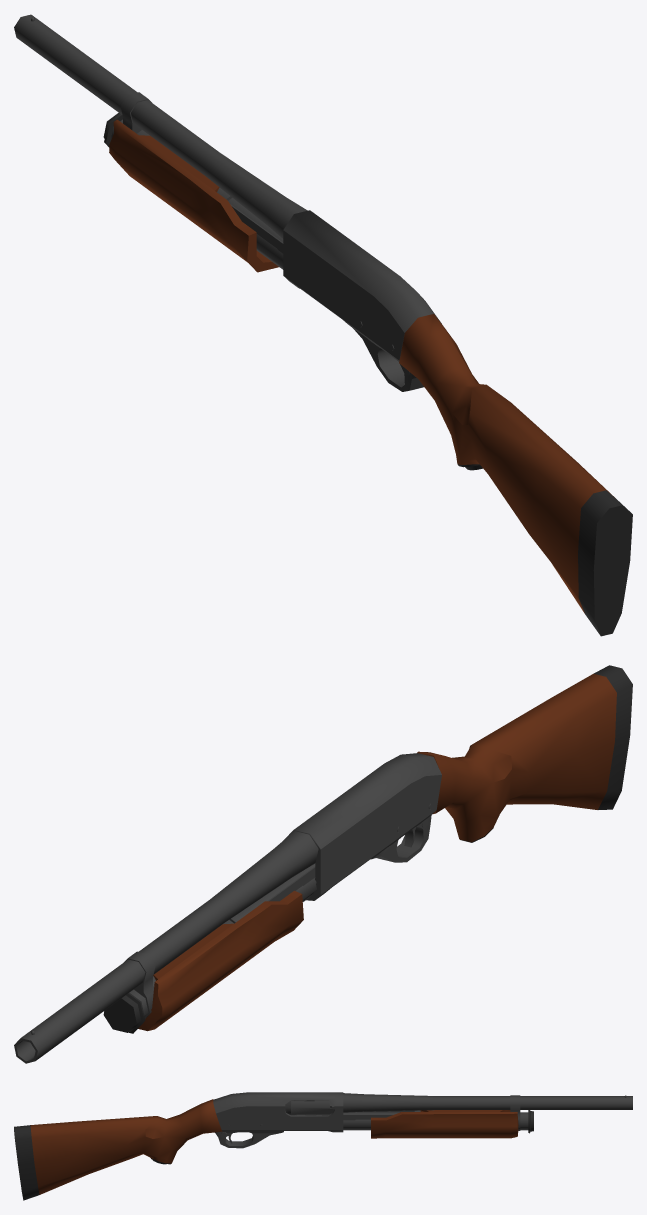
Rendered from shotgun.glb.
3 views of the same model, one above another, from view 1: azimuth 30°, elevation 25°; view 2: azimuth 150°, elevation 25°; view 3: azimuth 270°, elevation 25° (orthographic). The views are drawn at different scales.
Parts seen in each view (by area): view 1: buttstock_wooden_11, receiver_6, barrel_15, handguard_wooden_9, trigger_assembly_0, magazine_tube_8; view 2: buttstock_wooden_11, barrel_15, receiver_6, handguard_wooden_9, magazine_tube_end_cap_7, trigger_assembly_0, magazine_tube_8, forend_tube_assembly_10; view 3: buttstock_wooden_11, barrel_15, receiver_6, handguard_wooden_9, bolt_14, magazine_tube_8, trigger_assembly_0, forend_tube_assembly_10.
Boxes of the visible parts, box(x1,y1,x2,y2) form: buttstock_wooden_11: box(399, 314, 632, 636); receiver_6: box(283, 210, 441, 361); barrel_15: box(14, 14, 307, 238); handguard_wooden_9: box(109, 119, 278, 272); trigger_assembly_0: box(352, 321, 423, 391); magazine_tube_8: box(110, 119, 283, 269); buttstock_wooden_11: box(417, 665, 632, 842); barrel_15: box(14, 831, 318, 1063); receiver_6: box(283, 753, 441, 900); handguard_wooden_9: box(138, 890, 303, 1031); magazine_tube_end_cap_7: box(103, 992, 145, 1033); trigger_assembly_0: box(371, 803, 432, 862); magazine_tube_8: box(129, 863, 316, 1016); forend_tube_assembly_10: box(153, 866, 315, 986); buttstock_wooden_11: box(14, 1099, 222, 1200); barrel_15: box(314, 1093, 632, 1130); receiver_6: box(213, 1092, 343, 1132); handguard_wooden_9: box(371, 1110, 518, 1138); bolt_14: box(285, 1100, 334, 1114); magazine_tube_8: box(343, 1112, 528, 1130); trigger_assembly_0: box(215, 1124, 283, 1148); forend_tube_assembly_10: box(306, 1110, 420, 1120).
Size of the model in its own units: 0.0529 by 0.178 by 0.9528.
